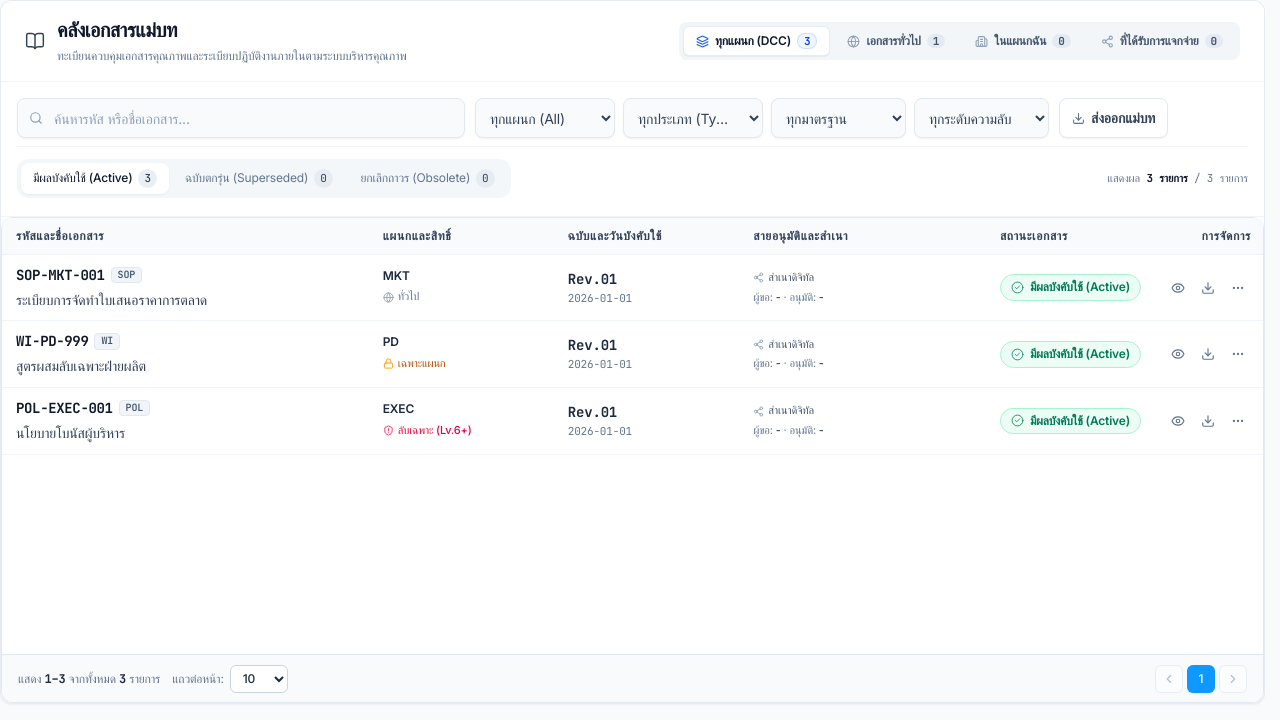
Test: Document Confidentiality & Access Scope RBAC › 2. Library Invisible Filtering Integration › allows DCC Admin to view all documents across all tiers in Global View
Expected: the text "WI-PD-999" is shown, [16, 331, 88, 351]
Expected: the text "POL-EXEC-001" is shown, [16, 398, 113, 418]
// "ในแผนกฉัน" means the DCC's own department again, not other depts' documents
Click the button with aria-label "เอกสารในแผนกฉัน". click: x=1023, y=41
box: [962, 26, 1084, 56]
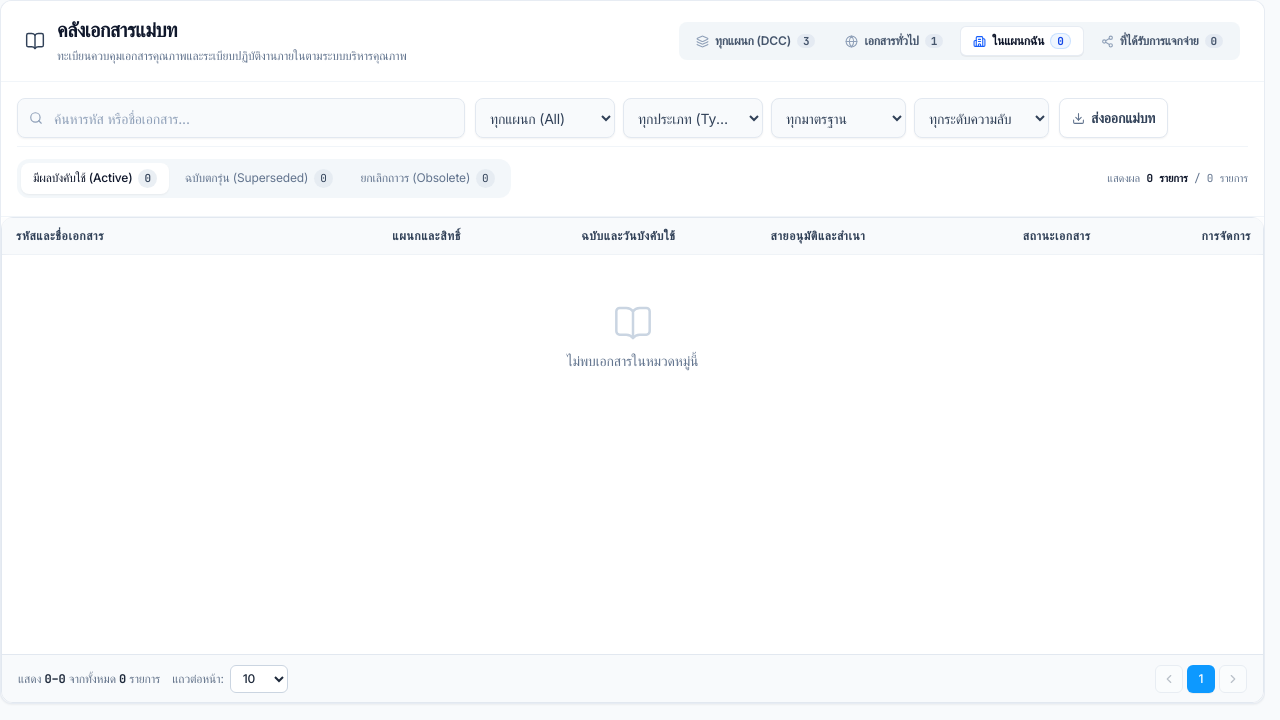
Expected: the text "WI-PD-999" is gone
